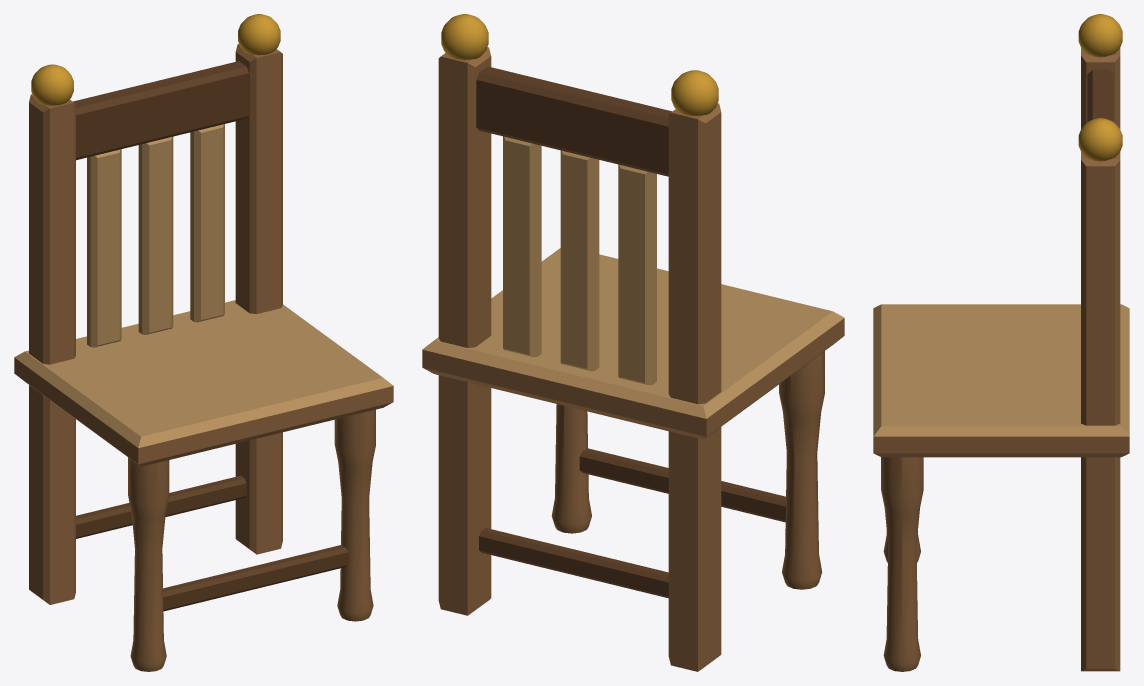
File: Chair_03.glb
3 views of the same model, side by side, from view 1: azimuth 30°, elevation 25°; view 2: azimuth 150°, elevation 25°; view 3: azimuth 270°, elevation 25° (orthographic). The views are drawn at different scales.
Visible parts, largest first — view 1: Chair_03; view 2: Chair_03; view 3: Chair_03.
Boxes of the visible parts, left/top/right/bottom form: Chair_03: left=14, top=14, right=393, bottom=671; Chair_03: left=422, top=14, right=844, bottom=671; Chair_03: left=873, top=14, right=1129, bottom=671.
Bounding box in the file's own units: 2.3 × 4.56 × 1.94.
